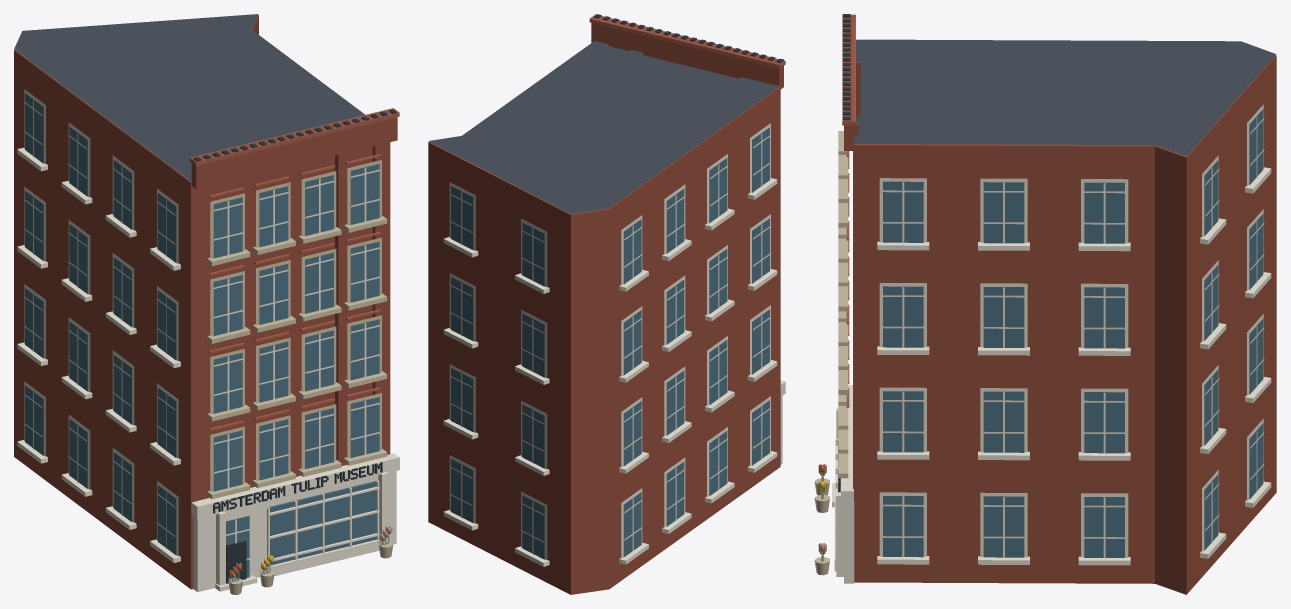
Rendered from amsterdam-tulip-museum.glb.
The picture shows the model from 3 angles, left to right: view 1: azimuth 30°, elevation 25°; view 2: azimuth 150°, elevation 25°; view 3: azimuth 270°, elevation 25°; orthographic projection. The views are drawn at different scales.
Visible parts, largest first — view 1: amsterdam-tulip-museum; view 2: amsterdam-tulip-museum; view 3: amsterdam-tulip-museum.
Part boxes in pixels (<box>): amsterdam-tulip-museum: <box>14,14,399,594</box>; amsterdam-tulip-museum: <box>428,14,785,594</box>; amsterdam-tulip-museum: <box>814,14,1276,594</box>.
Bounding box in the file's own units: 9.86 × 17.75 × 15.99.
